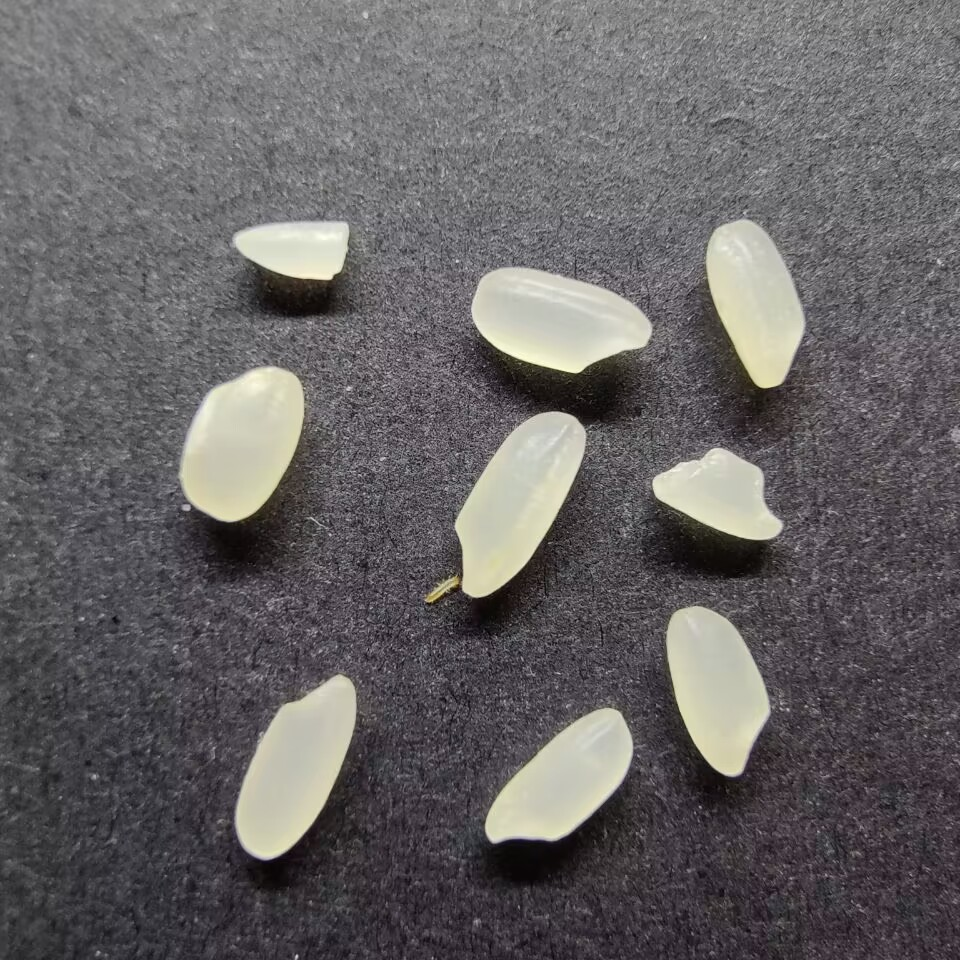broken: (646, 445, 786, 542), (232, 220, 352, 286)
others: (420, 569, 461, 605)
rice: (450, 408, 591, 600), (235, 670, 358, 860), (482, 706, 635, 847), (471, 264, 654, 376), (178, 363, 306, 522), (665, 605, 776, 779), (705, 217, 809, 390)
